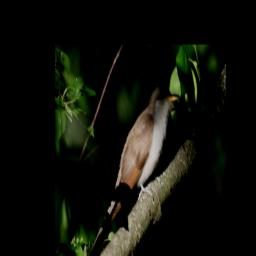Cuckoo: (82, 84, 180, 256)
